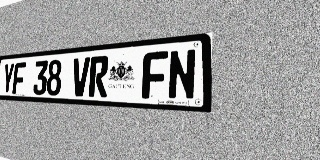3: (33, 60, 48, 95)
8: (46, 59, 63, 96)
F: (142, 51, 168, 99), (12, 62, 26, 94)
N: (167, 48, 197, 100)
R: (88, 55, 109, 97)
V: (71, 57, 90, 97)
Y: (2, 63, 15, 94)
